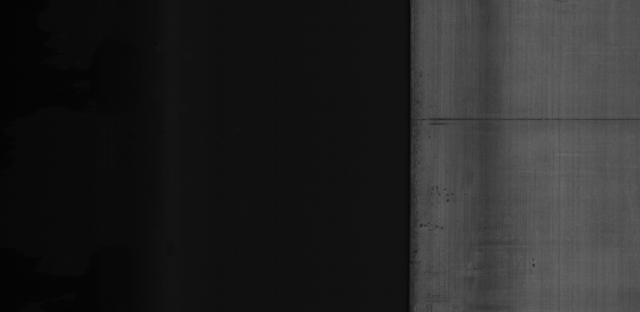crease: (413, 109, 640, 131)
